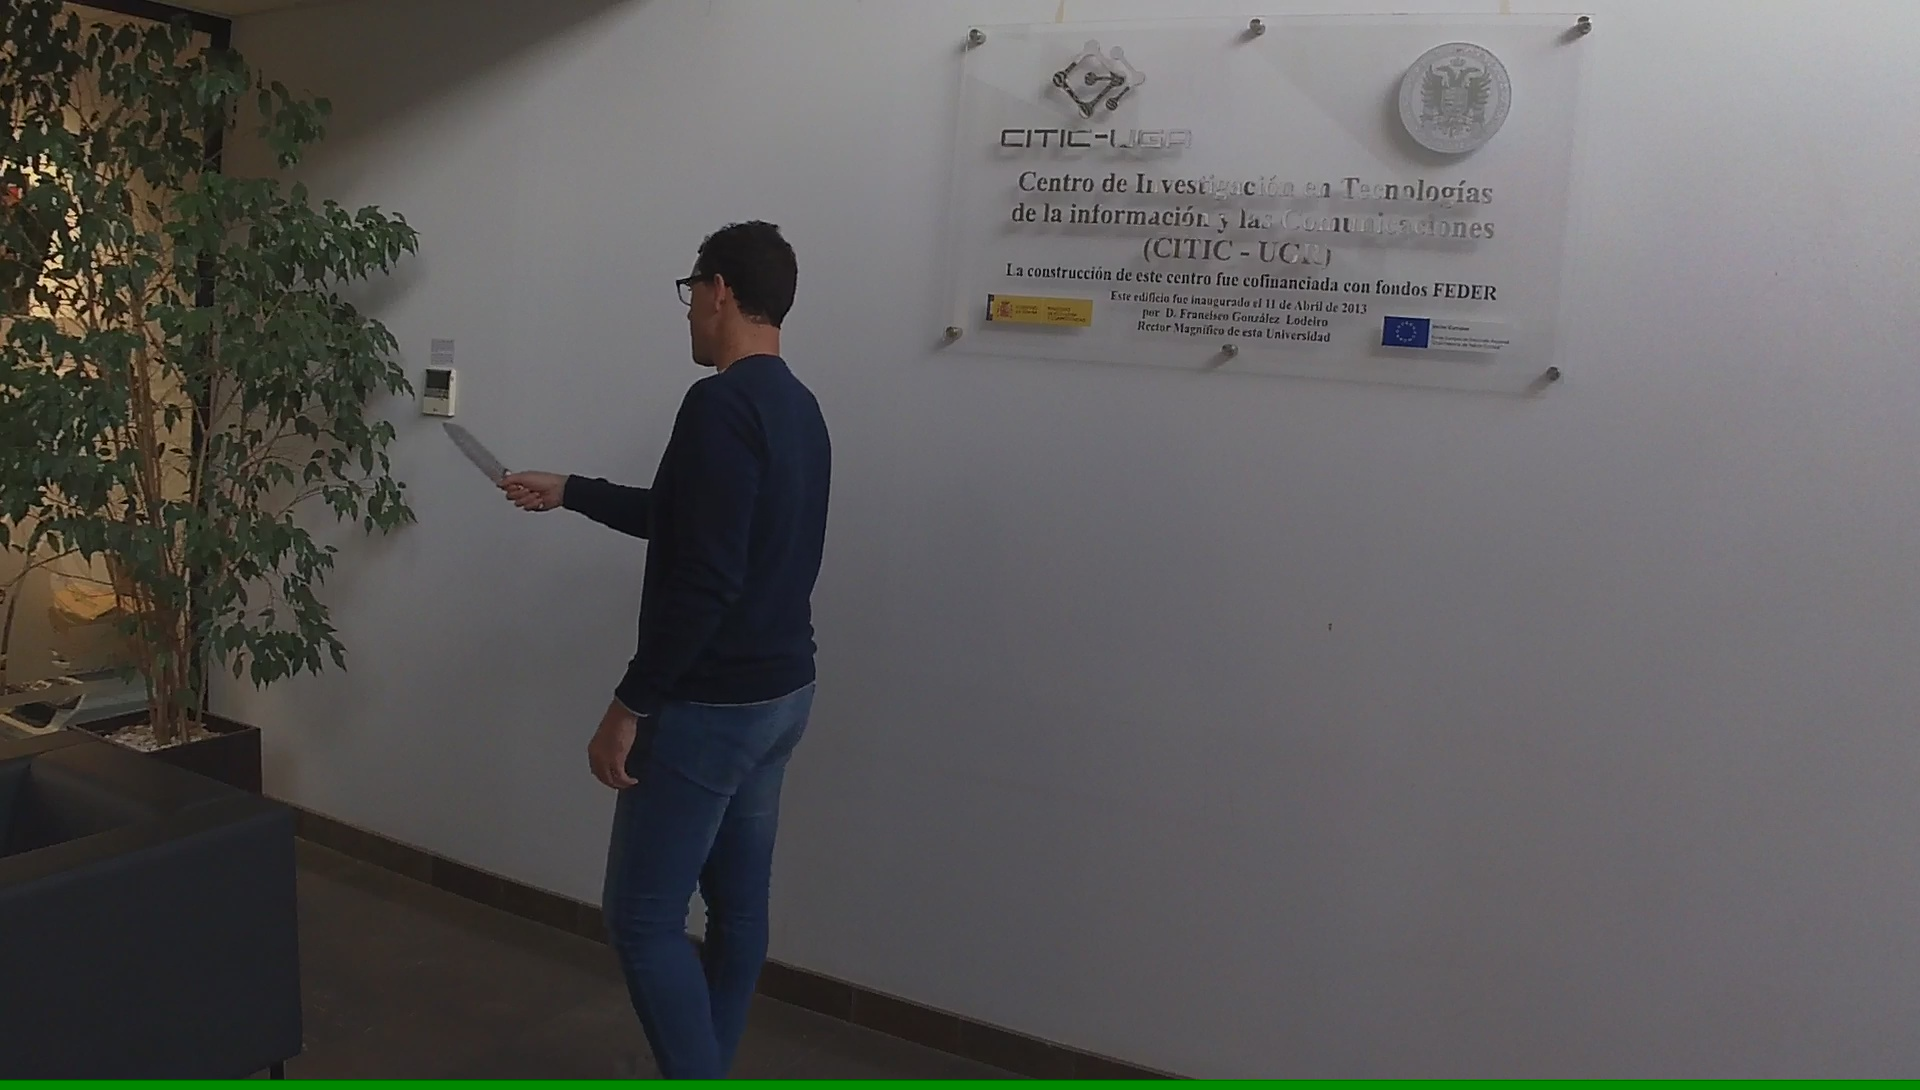knife: (436, 416, 546, 515)
